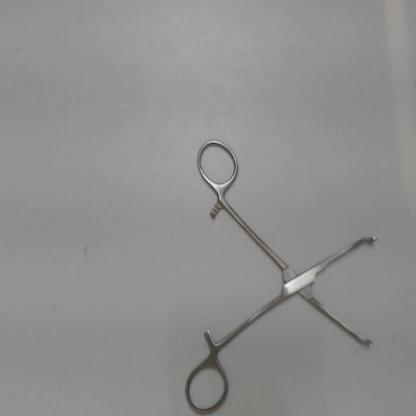Allis Tissue Forceps: (180, 128, 382, 416)
